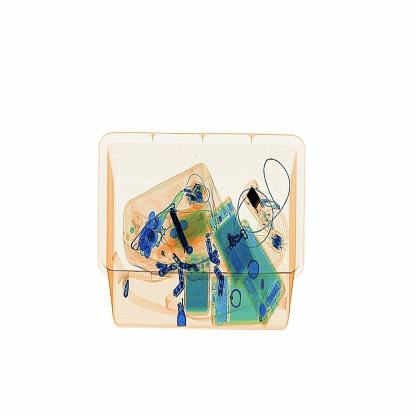knife: (162, 196, 199, 254)
